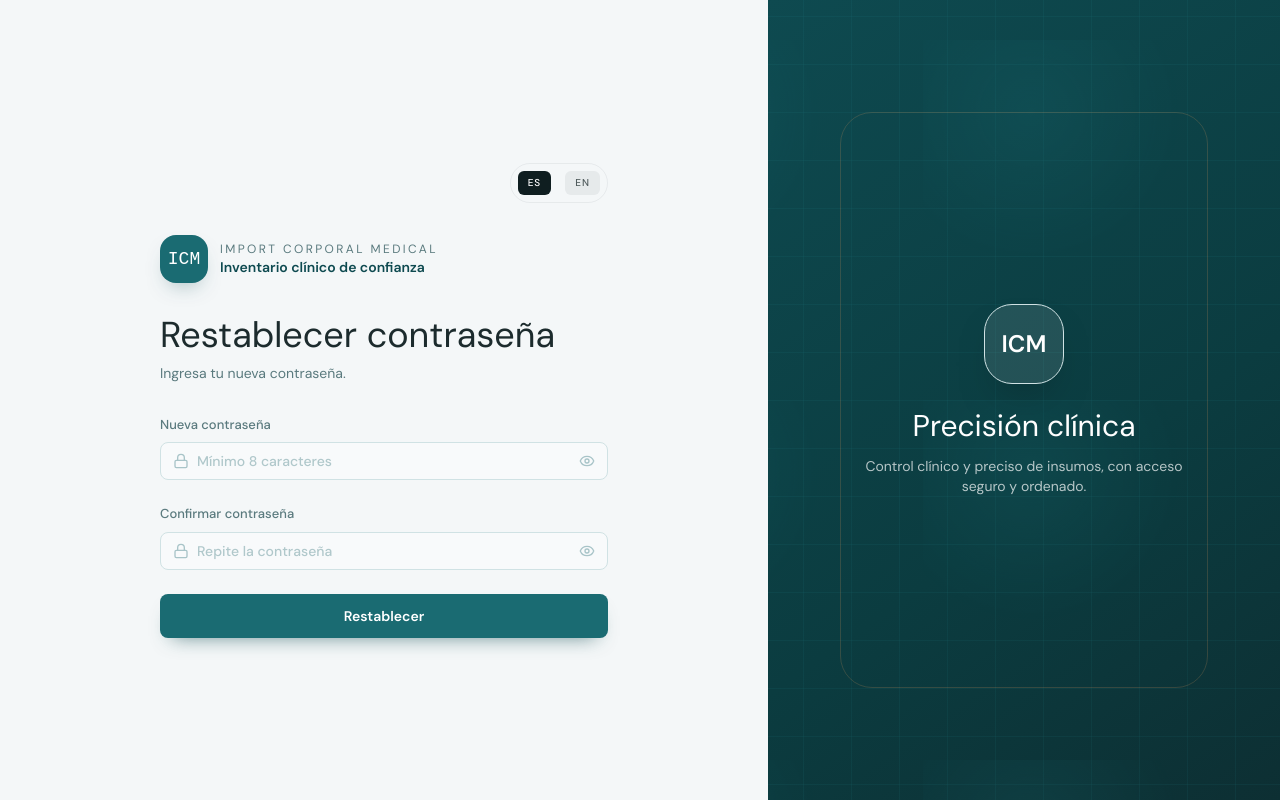
ResetPasswordPage — integración › Validaciones client-side › debería mostrar error si la contraseña no tiene mayúscula
Type "admin123!" into the password field labelled "Nueva contraseña" at {"x": 384, "y": 461}, box [197,451,571,471]
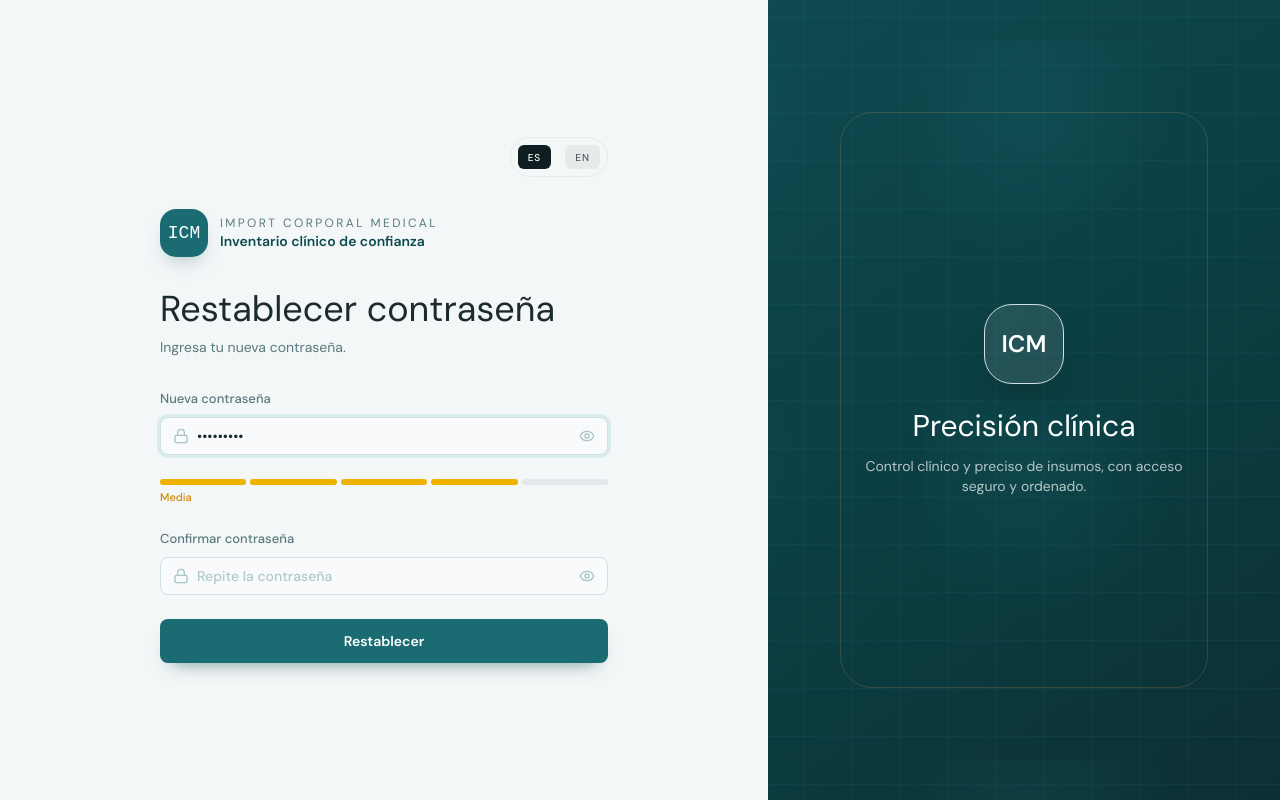
Type "admin123!" into the password field labelled "Confirmar contraseña" at {"x": 384, "y": 576}, box [197,566,571,586]
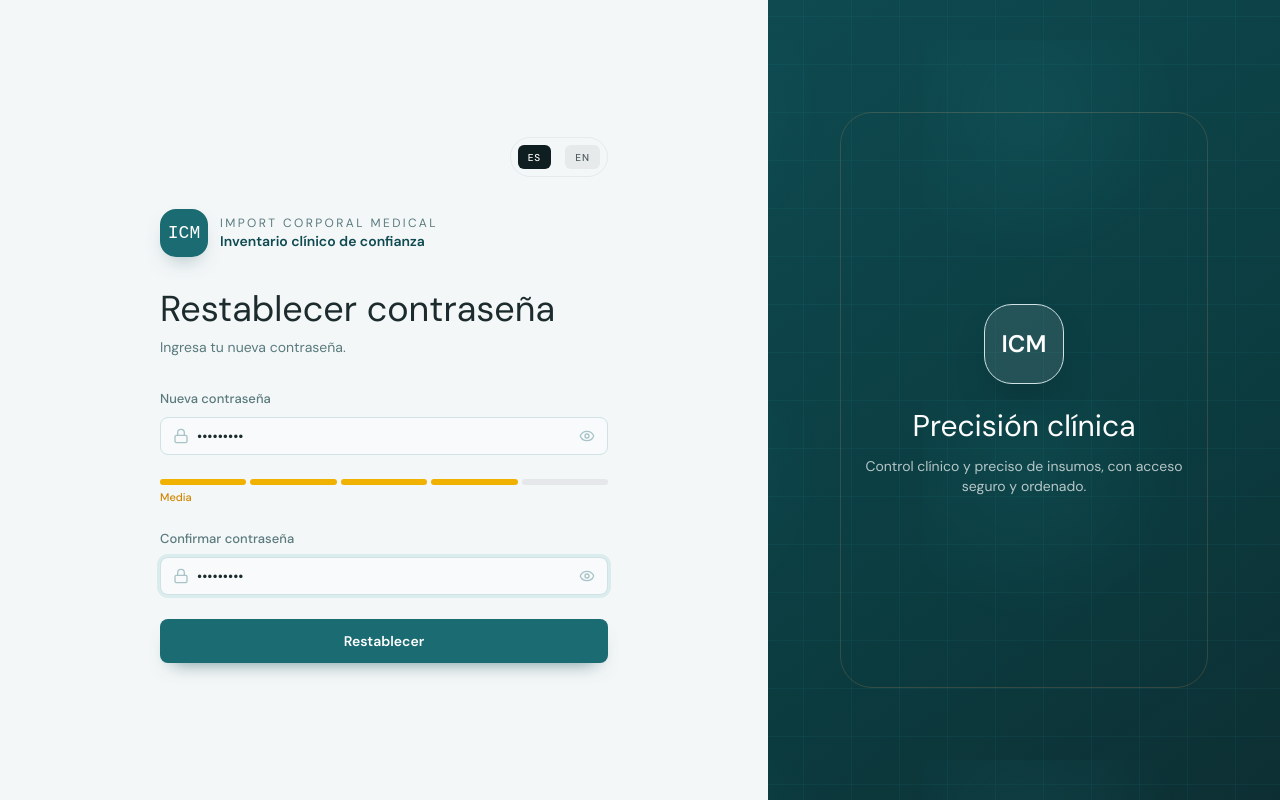
Click the button "Restablecer" at {"x": 384, "y": 641}, box [160,619,608,663]
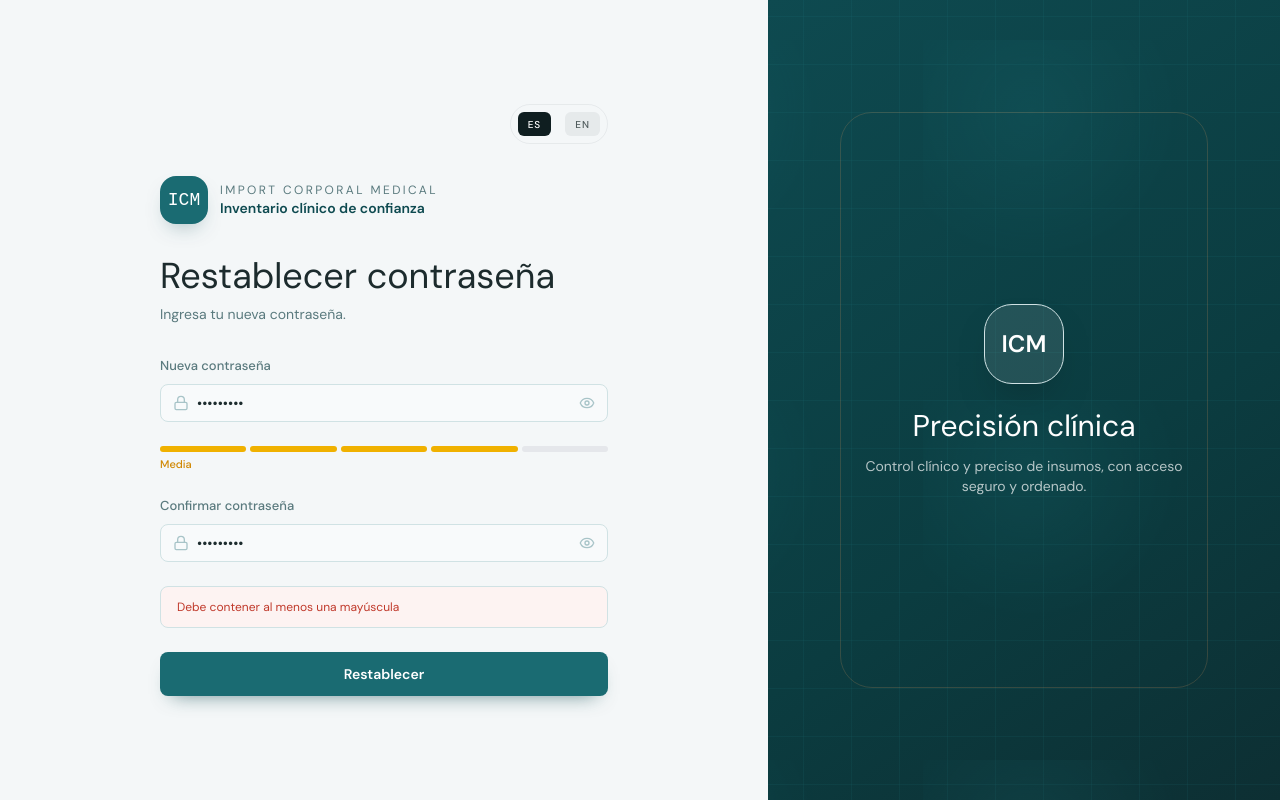
Expected: the text "Debe contener al menos una mayúscula" is shown, [160,586,608,628]
